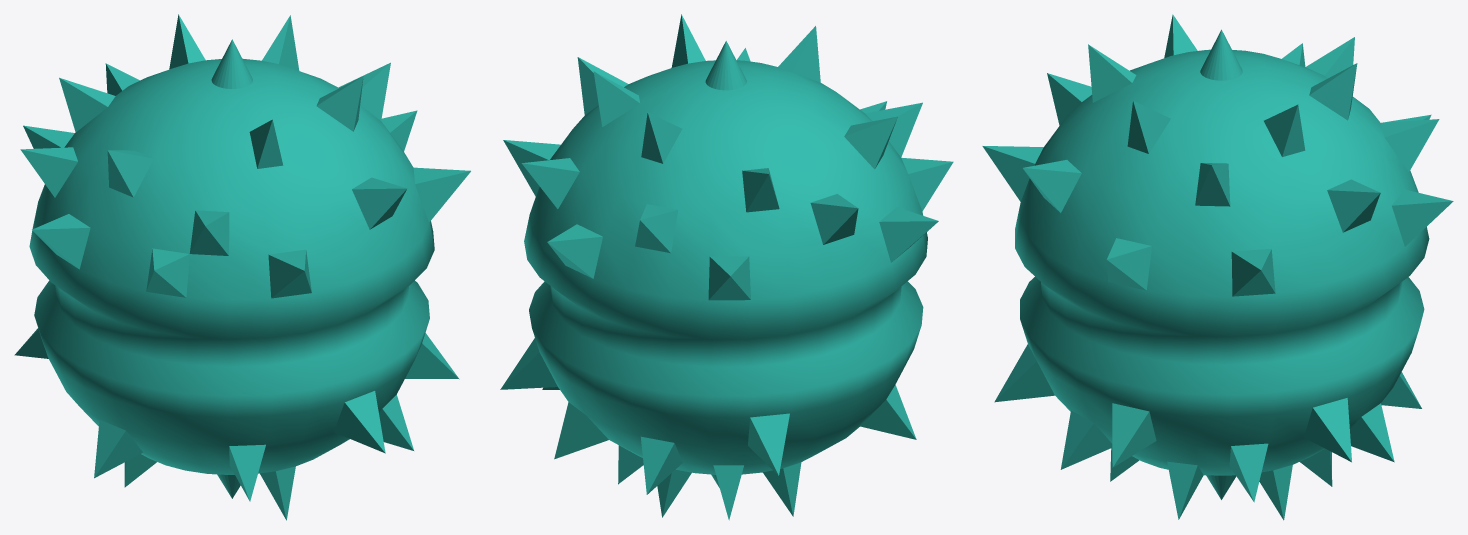
Rendered from 子弹17仙人掌.FBX.
3 renders of one model, left to right at view 1: azimuth 30°, elevation 25°; view 2: azimuth 150°, elevation 25°; view 3: azimuth 270°, elevation 25°, orthographic. The views are drawn at different scales.
Visible parts, largest first — view 1: Sphere001; view 2: Sphere001; view 3: Sphere001.
Boxes of the visible parts, left/top/right/bottom form: Sphere001: left=14, top=14, right=470, bottom=520; Sphere001: left=500, top=14, right=953, bottom=520; Sphere001: left=982, top=14, right=1453, bottom=520.
Size of the model in its own units: 85.69 by 91.52 by 83.05.
